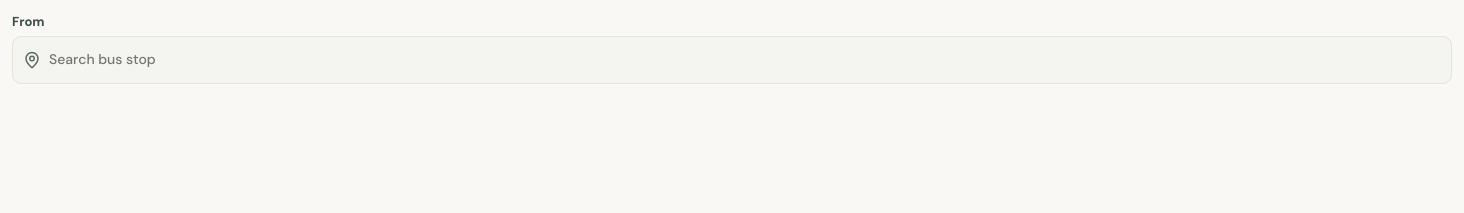
Test case: actual user states › requires a choice for duplicate names and preserves suggestions when focus moves to an option
The image size is (1464, 213).
Later steps or results of the test are not shown.
Type "Alpha Stop" into the dropdown at x=746, y=60, box [41, 36, 1451, 82]
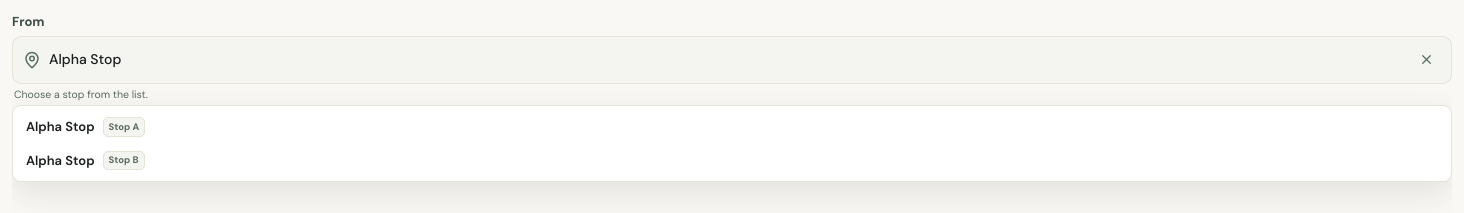
Press Enter in the dropdown, box [41, 36, 1411, 82]
Leave the dropdown, box [41, 36, 1411, 82]
Expected: the option "Alpha Stop Stop B" is shown, [17, 144, 1447, 177]
